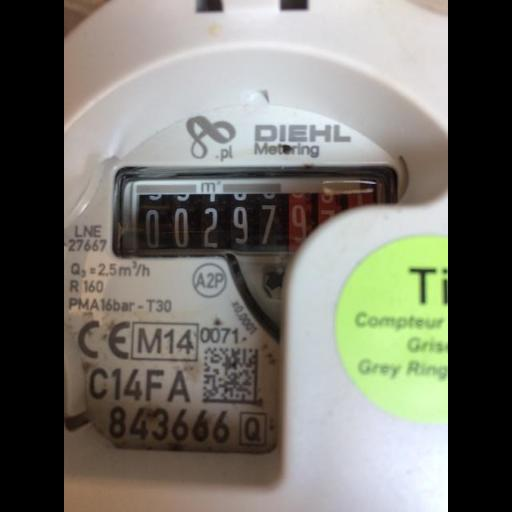0: (137, 195, 170, 250), (170, 195, 199, 250)
2: (199, 194, 225, 248)
7: (252, 193, 287, 251), (317, 192, 343, 229)
9: (284, 191, 318, 253), (224, 193, 253, 250)
border_water_meter_number: (121, 177, 382, 255)
